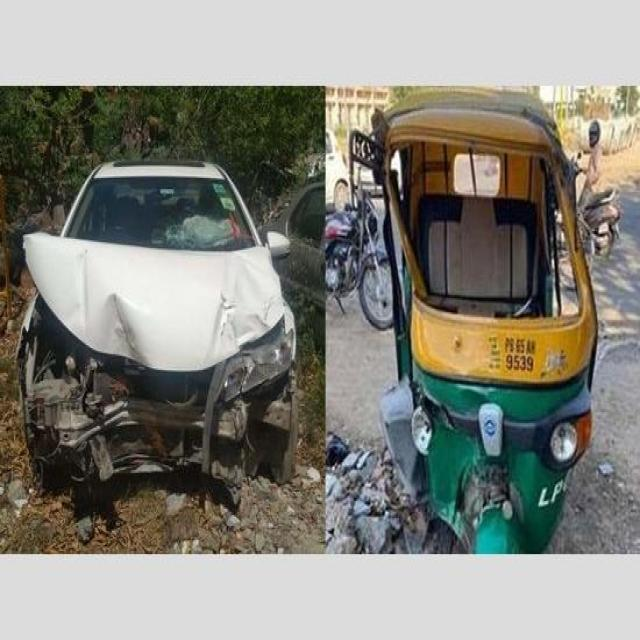accident: (350, 96, 597, 553), (20, 159, 296, 491)
